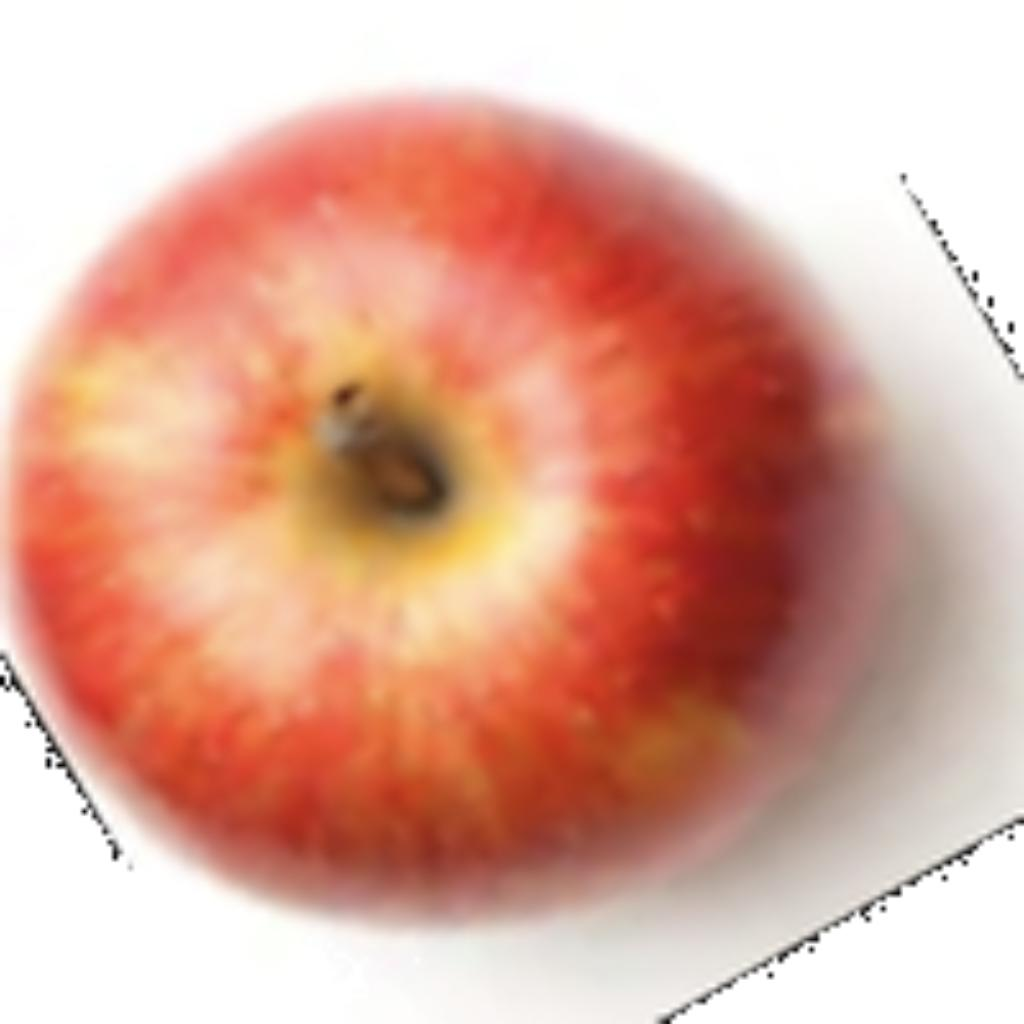apple: (0, 72, 1014, 978)
